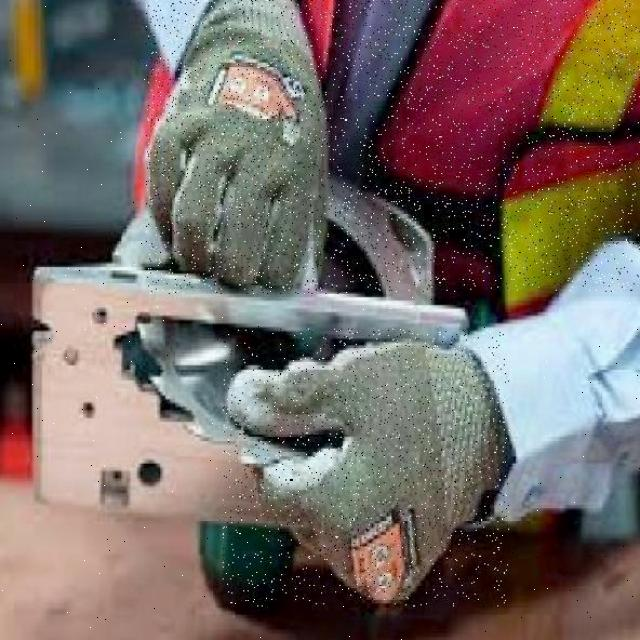Gloves: (227, 342, 511, 602), (150, 0, 327, 288)
